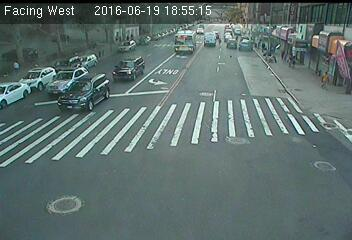neg: (58, 82, 75, 105), (78, 61, 93, 81), (128, 61, 139, 76)
pos: (319, 67, 336, 90), (10, 58, 26, 78)
